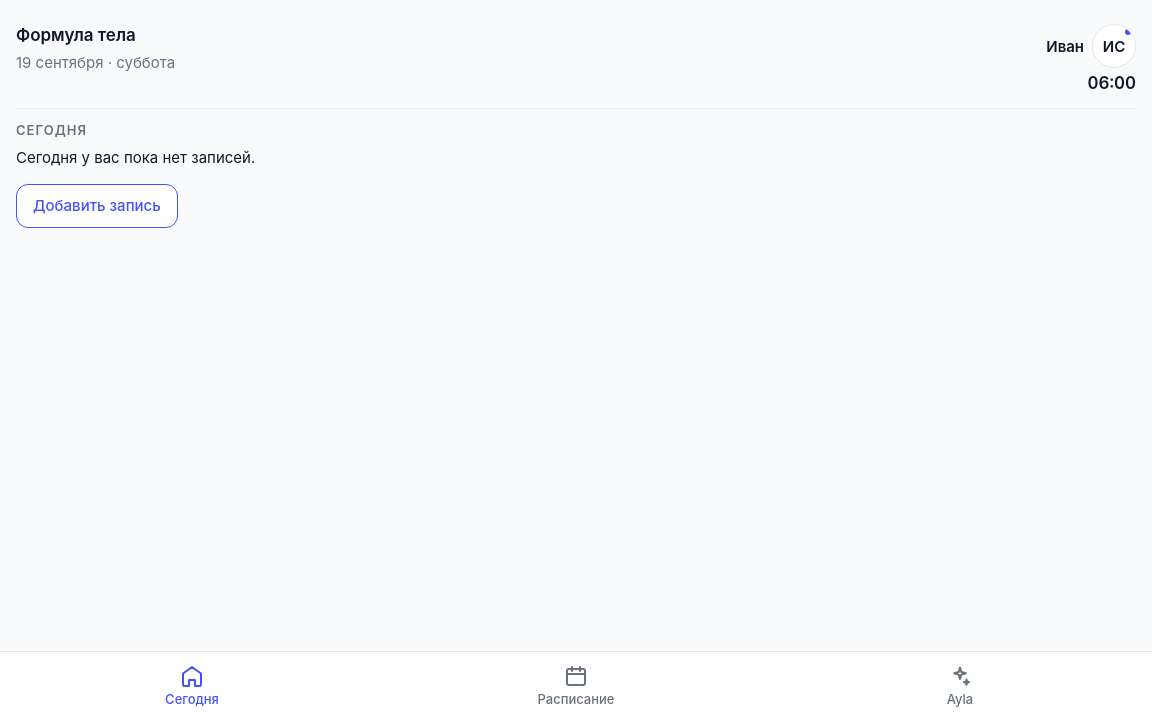
Scenario: аватар мастера на всех трёх разделах (DRF-2121, §28 п.3) › пункт settings ведёт на свой экран
The image size is (1152, 720).
Click the button with aria-label "Меню профиля": (1114, 46) [1092, 24, 1136, 68]
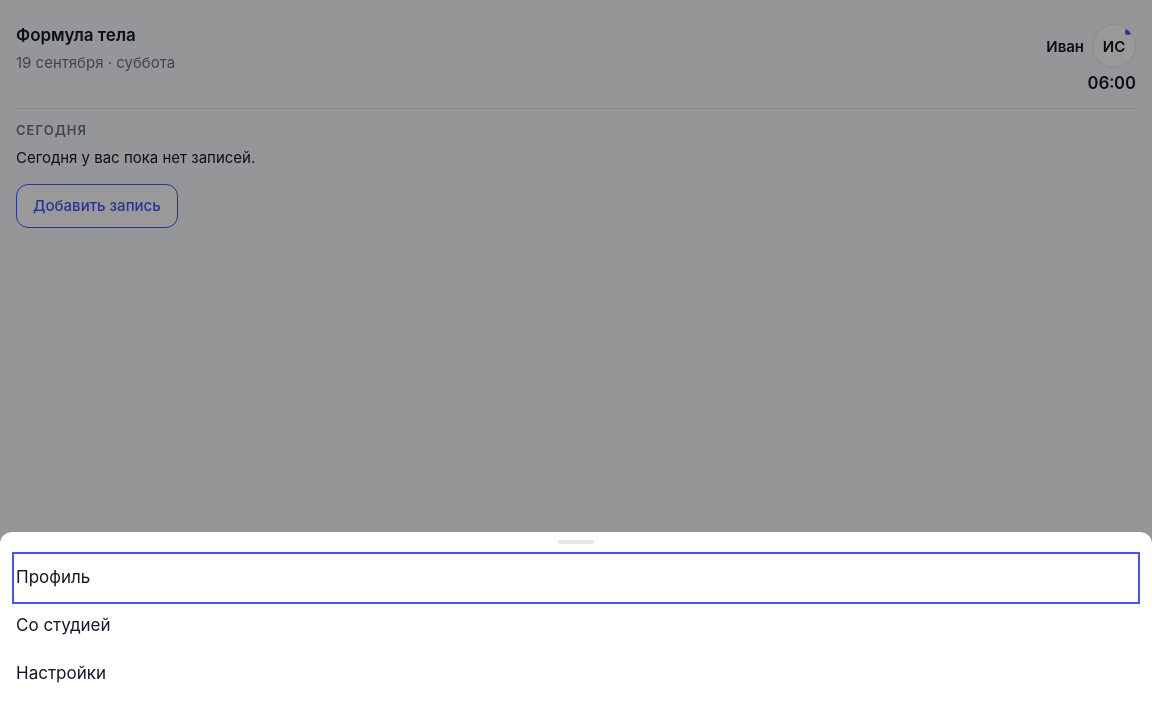
Click the button "Настройки": (61, 673) [16, 652, 1136, 696]
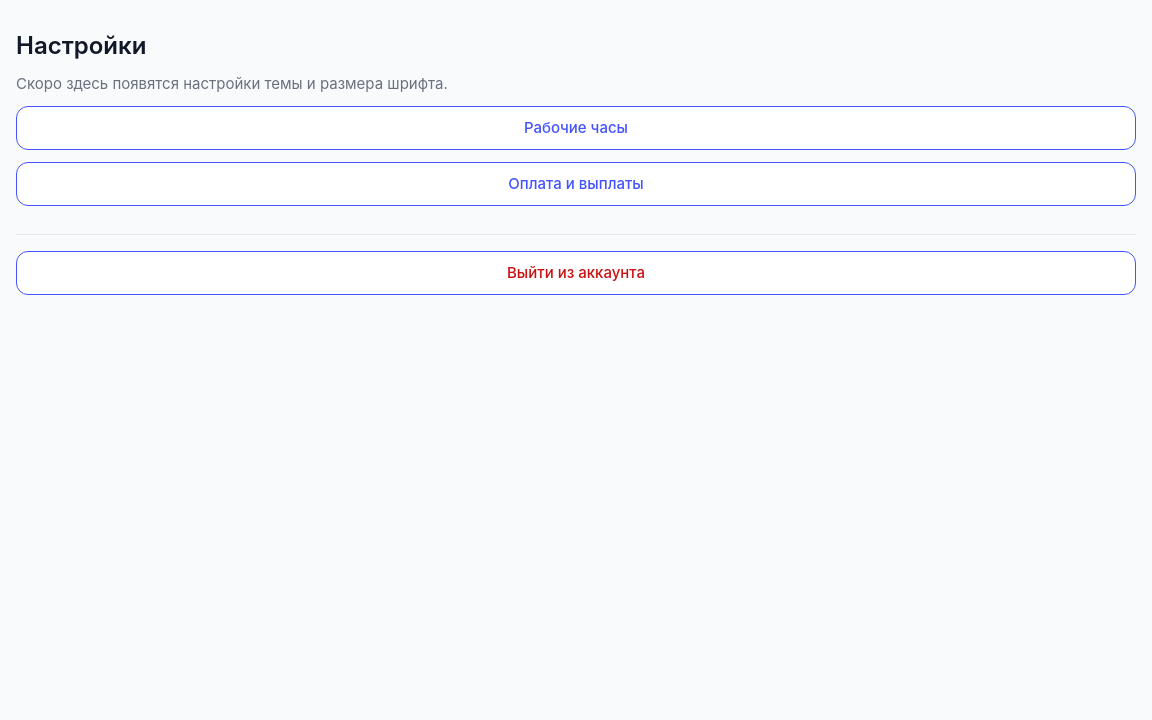
expect the heading "Настройки" is shown: met, box [16, 31, 146, 60]
